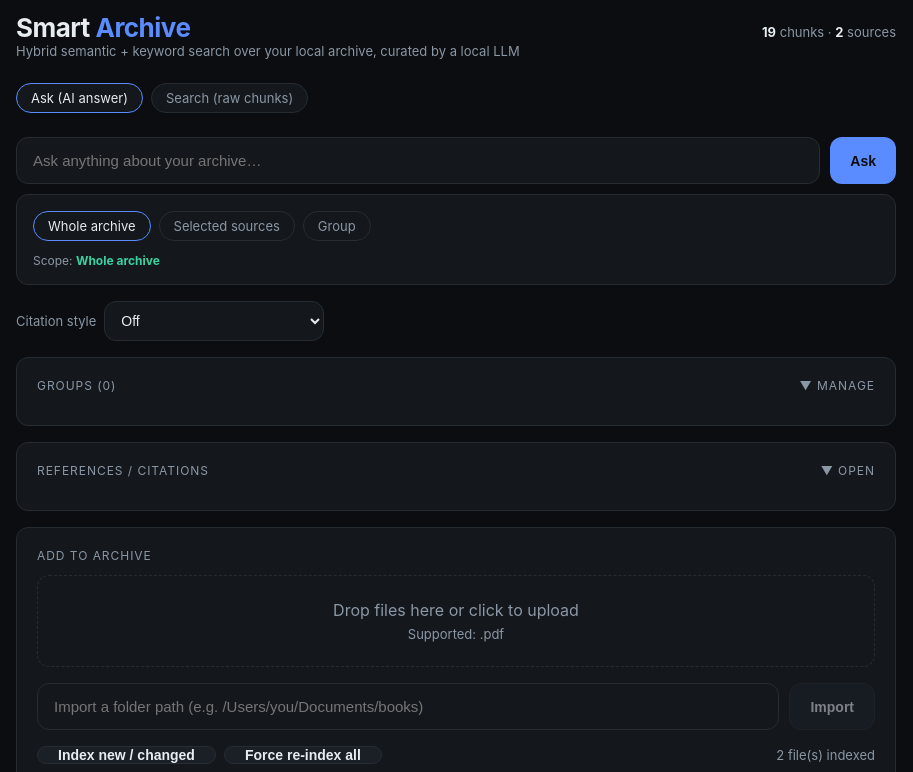
Selector independence (Req 6.11) › inline [n] markers / Sources list render regardless of the selector
The width and height of the screenshot is (913, 772).
Type "what is alpha?" into the field with placeholder "Ask anything about your archive…". click: (418,160)
box: [16,137,820,184]
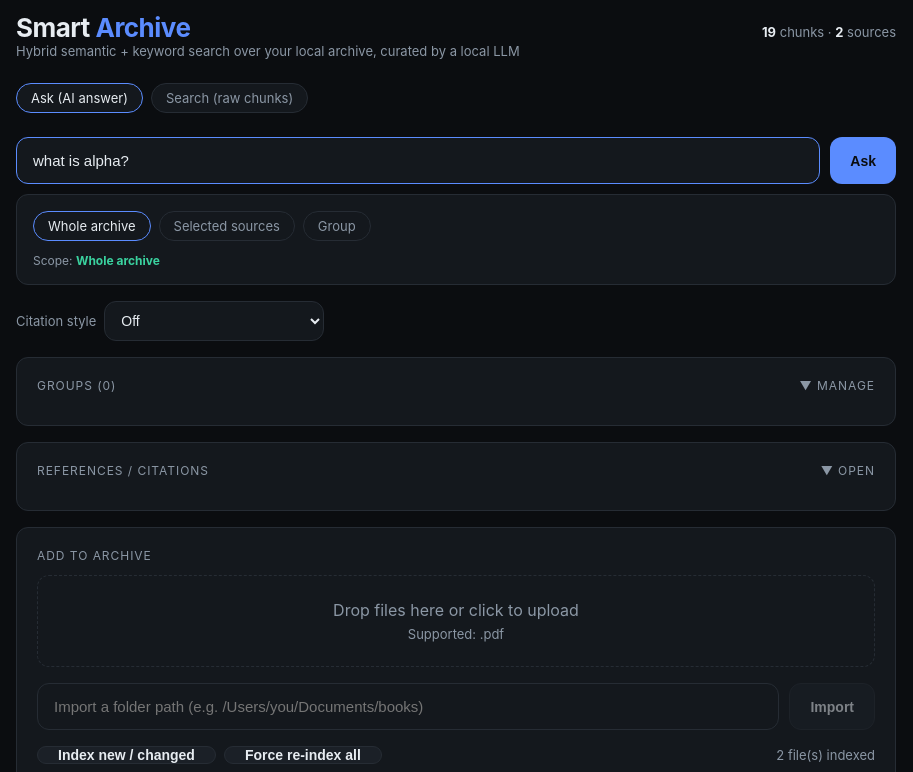
Click the button "Ask". click: (863,160)
box: [830,137,896,184]
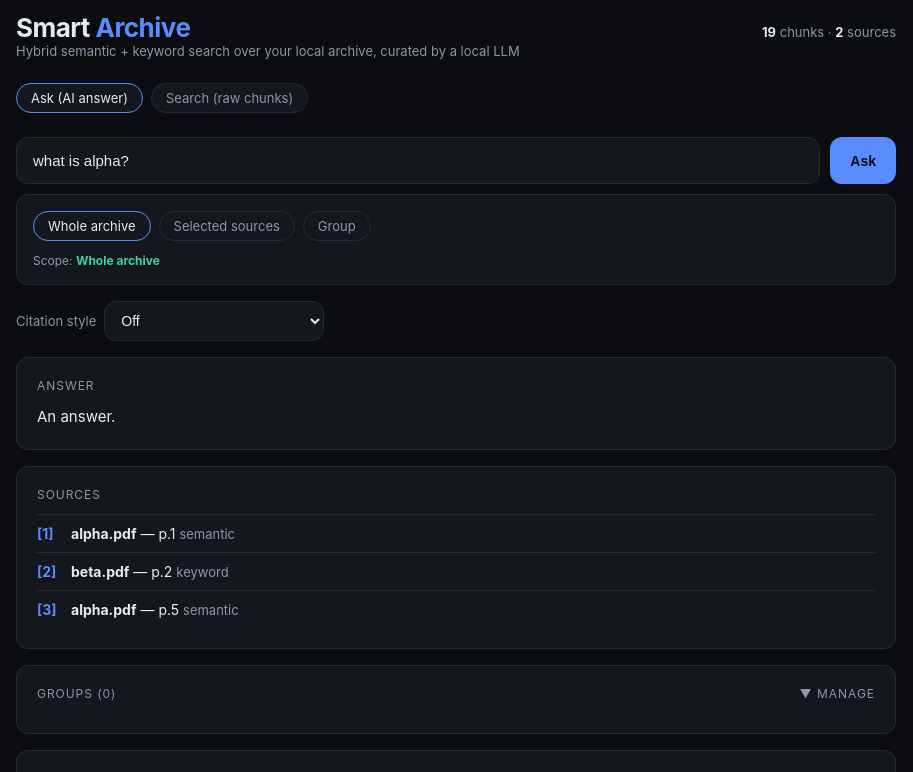
Expected: the text "Sources" is shown, [37,487,101,502]
Expected: the text "[1]" is shown, [37,525,54,542]
Expected: the text "[2]" is shown, [37,563,56,580]
Select "MLA" in the dropdown labelled "Citation style". click: (214,321)
box: [104,301,324,341]
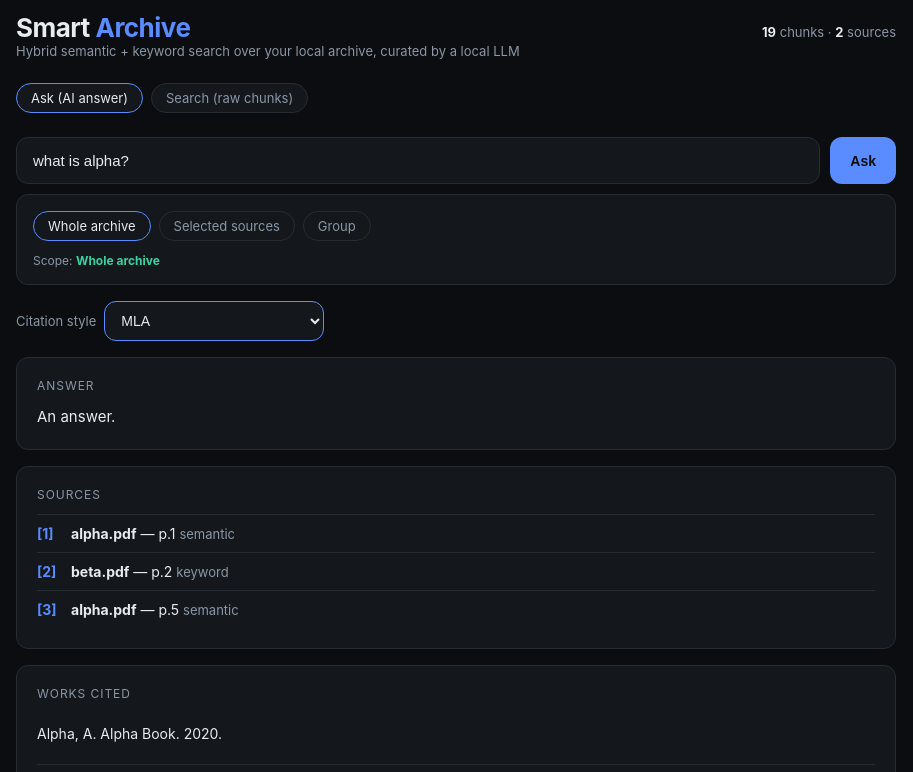
Expected: the text "Sources" is shown, [37,487,101,502]
Expected: the text "[1]" is shown, [37,525,54,542]
Expected: the text "Works Cited" is shown, [37,686,131,701]
Select "Off" in the dropdown labelled "Citation style". click: (214,321)
box: [104,301,324,341]
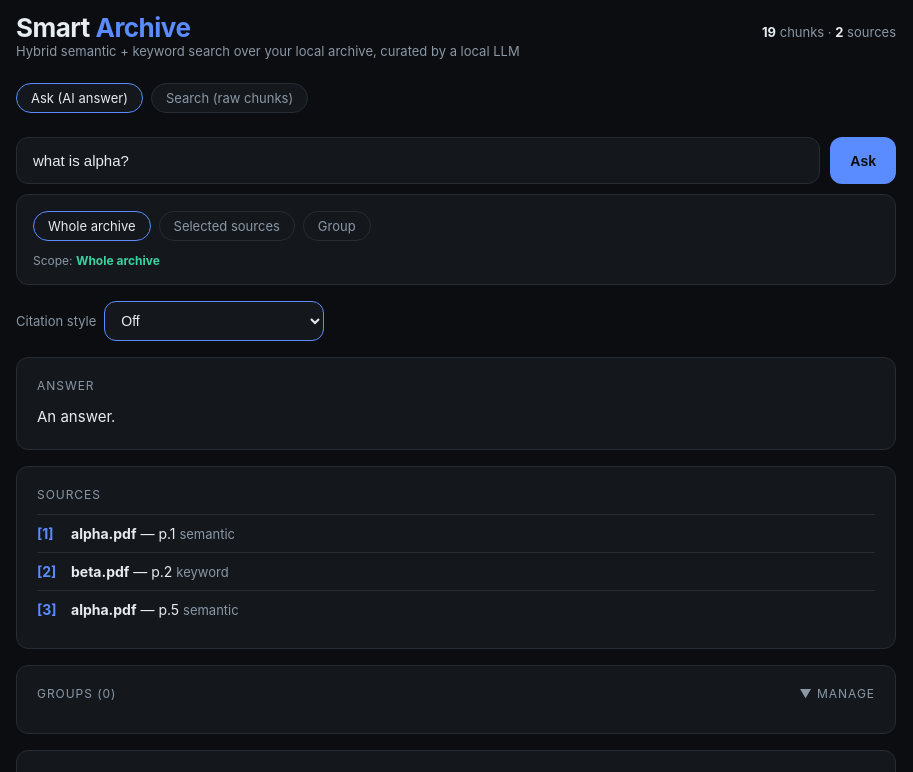
Expected: the text "Sources" is shown, [37,487,101,502]
Expected: the text "[1]" is shown, [37,525,54,542]
Expected: the text "Works Cited" is gone
